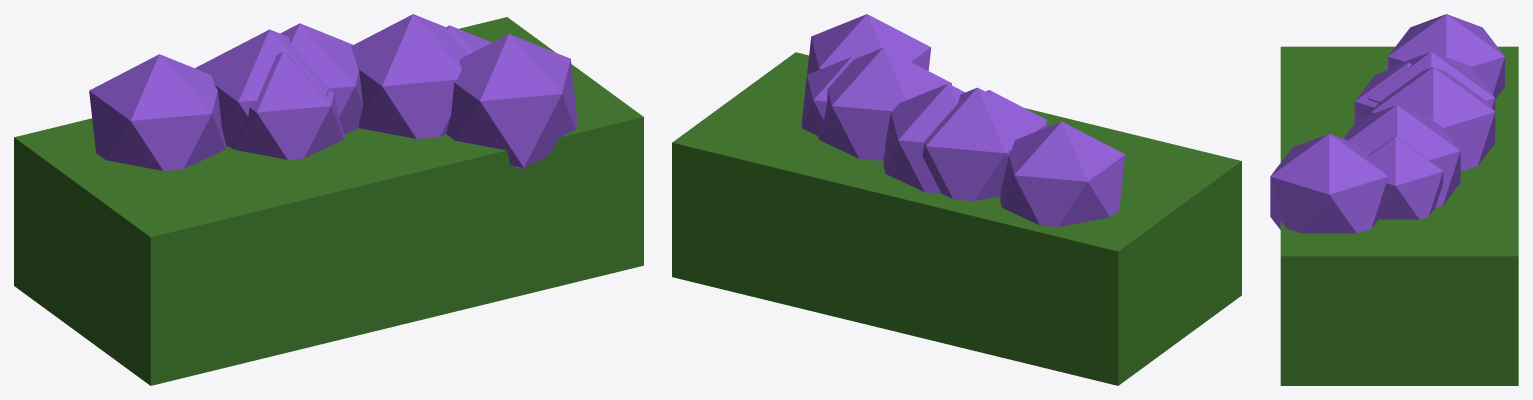
Rendered from flower_row_purple.fbx.
3 renders of one model, left to right at view 1: azimuth 30°, elevation 25°; view 2: azimuth 150°, elevation 25°; view 3: azimuth 270°, elevation 25°, orthographic. The views are drawn at different scales.
Parts seen in each view (by area): view 1: flower_row_purple; view 2: flower_row_purple; view 3: flower_row_purple.
Boxes of the visible parts, bbox=[...] form: flower_row_purple: bbox=[14, 14, 643, 385]; flower_row_purple: bbox=[672, 14, 1241, 385]; flower_row_purple: bbox=[1270, 14, 1518, 385].
Size of the model in its own units: 1.25 by 0.5888 by 0.626.
